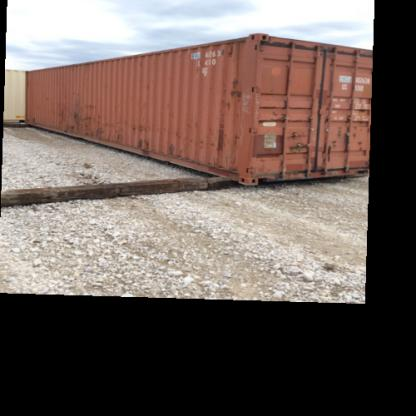Damage: (220, 70, 248, 132), (168, 130, 228, 150), (69, 108, 106, 134), (307, 149, 331, 180), (134, 125, 161, 152), (214, 45, 241, 62), (54, 107, 68, 132)
